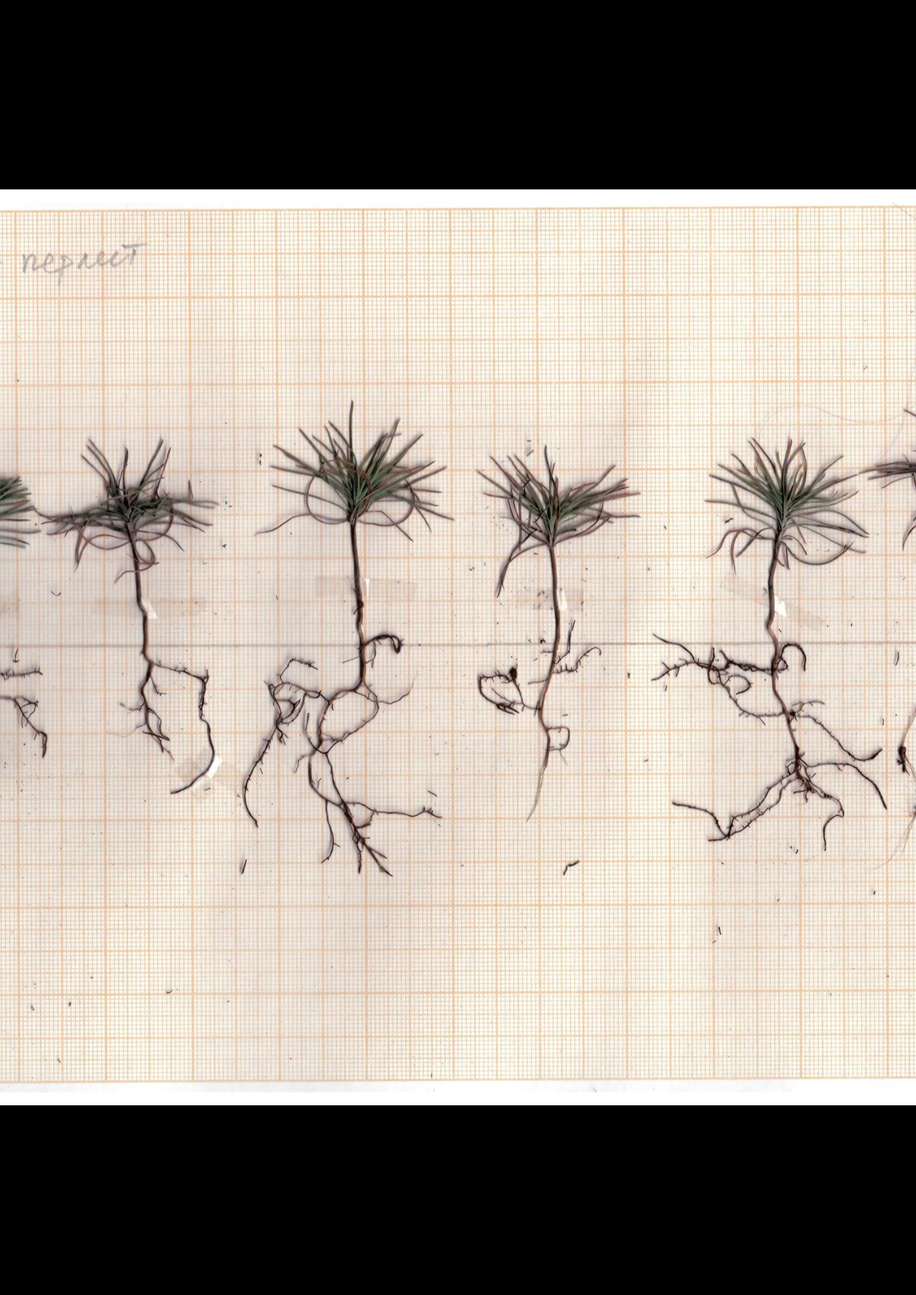Seeding: (233, 394, 458, 881), (647, 435, 875, 857), (467, 440, 643, 829), (41, 434, 220, 816), (869, 379, 916, 868), (0, 447, 44, 768)
